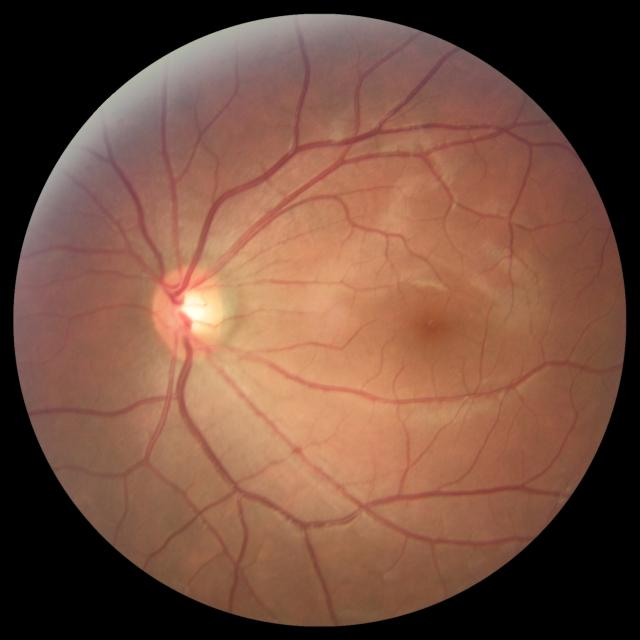OC: (173, 287, 209, 330)
OD: (153, 262, 227, 360)
